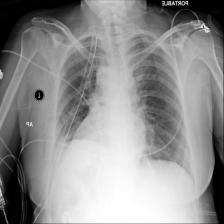normal: (51, 30, 192, 181)
